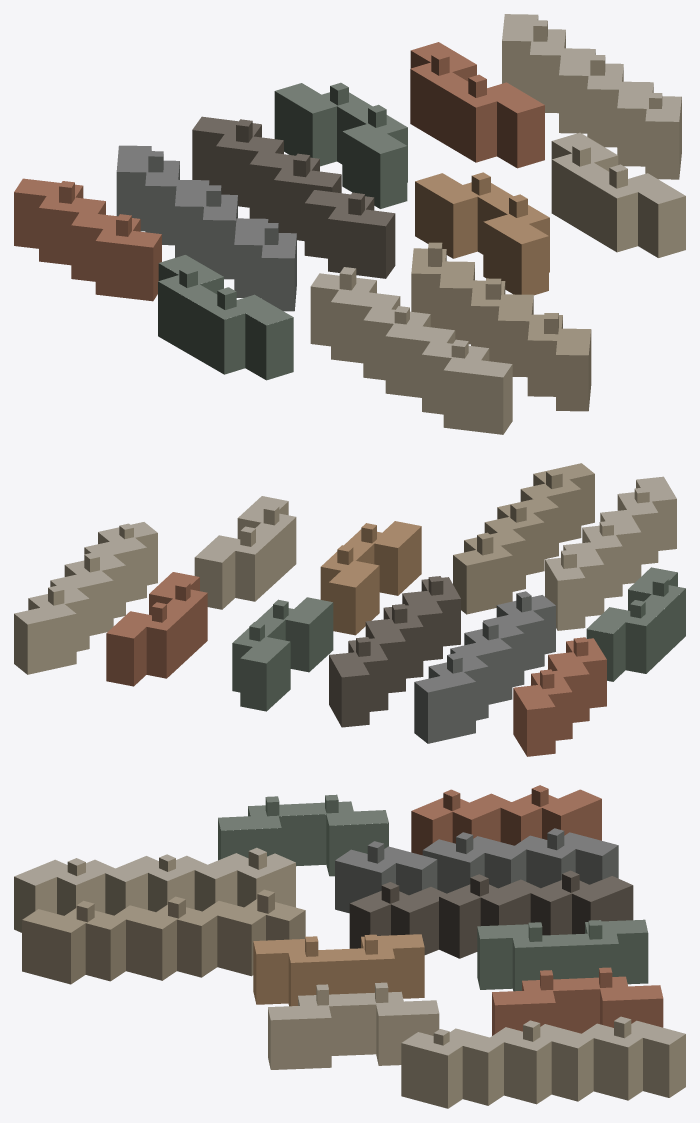
Rendered from tile-6_10.glb.
3 renders of one model, top to bottom at view 1: azimuth 30°, elevation 25°; view 2: azimuth 150°, elevation 25°; view 3: azimuth 270°, elevation 25°, orthographic. The views are drawn at different scales.
Visible parts, largest first — view 1: wall, roof; view 2: wall, roof; view 3: wall, roof.
Part boxes in pixels (bbox=[...]): wall: bbox=[14, 16, 685, 434]; roof: bbox=[14, 14, 685, 377]; wall: bbox=[14, 472, 685, 756]; roof: bbox=[14, 463, 685, 709]; wall: bbox=[14, 789, 685, 1108]; roof: bbox=[14, 785, 685, 1055].
Bounding box in the file's own units: 204 × 27.28 × 216.
